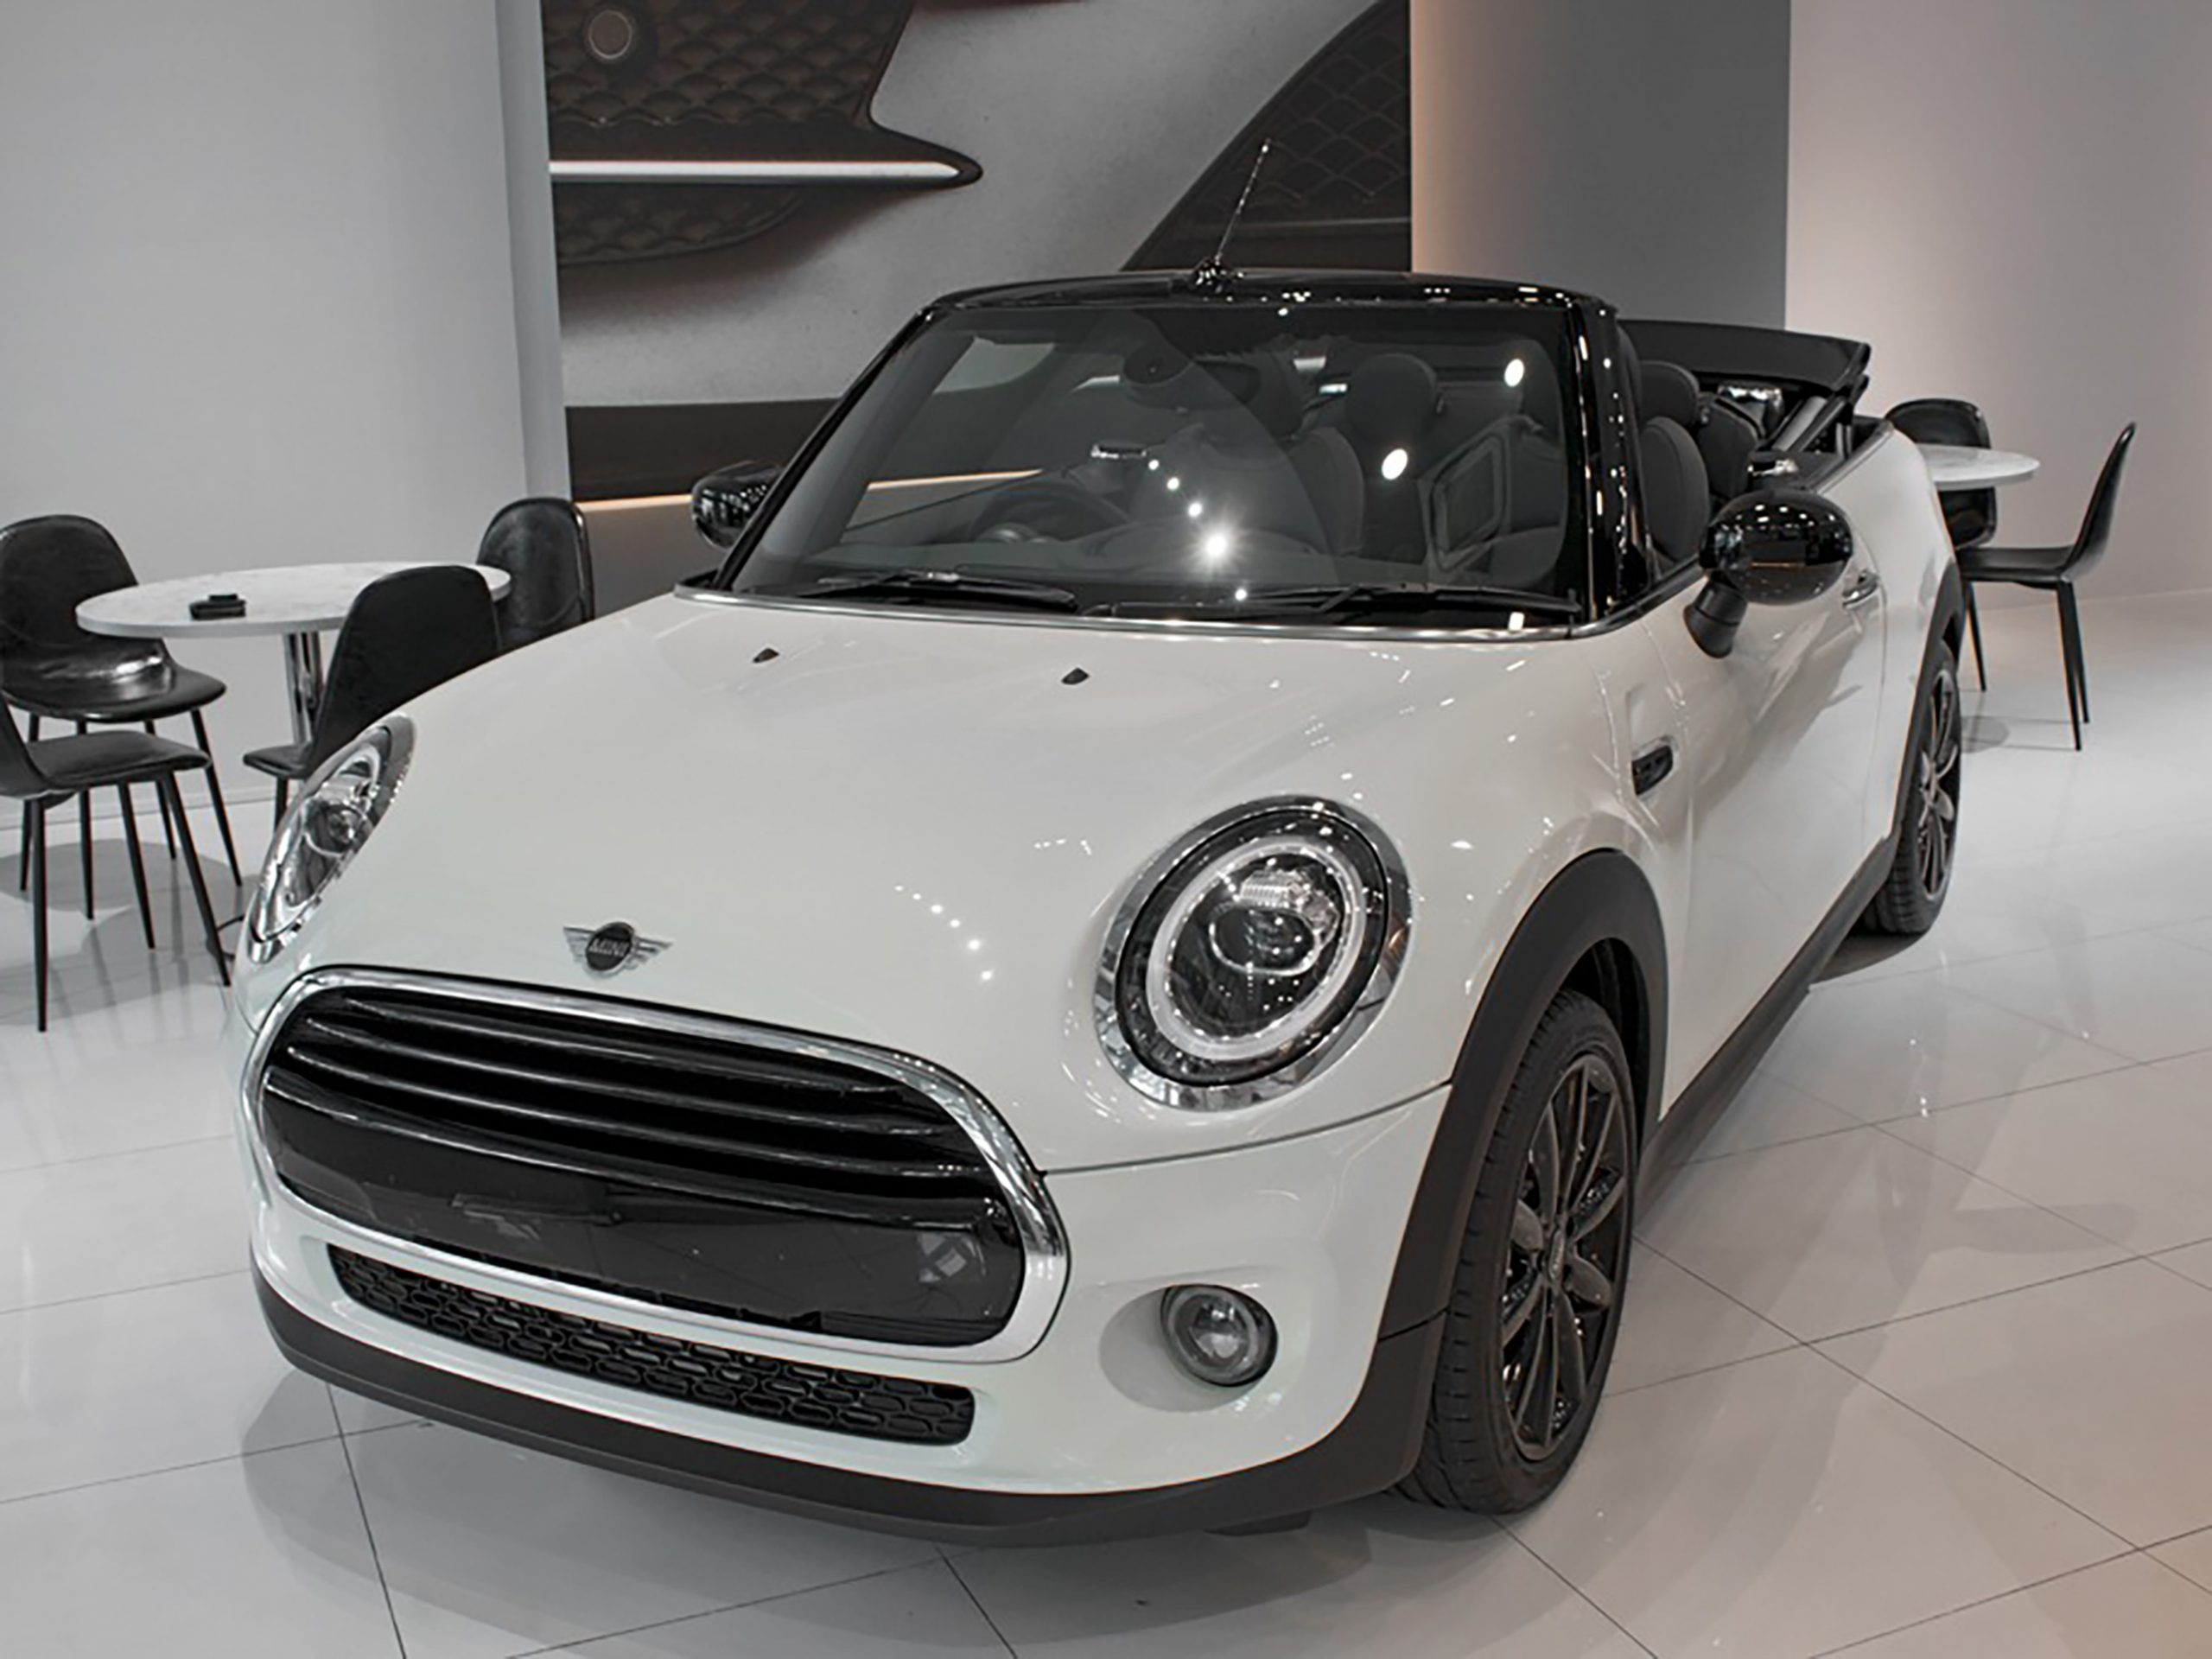car: (237, 260, 1970, 1560)
